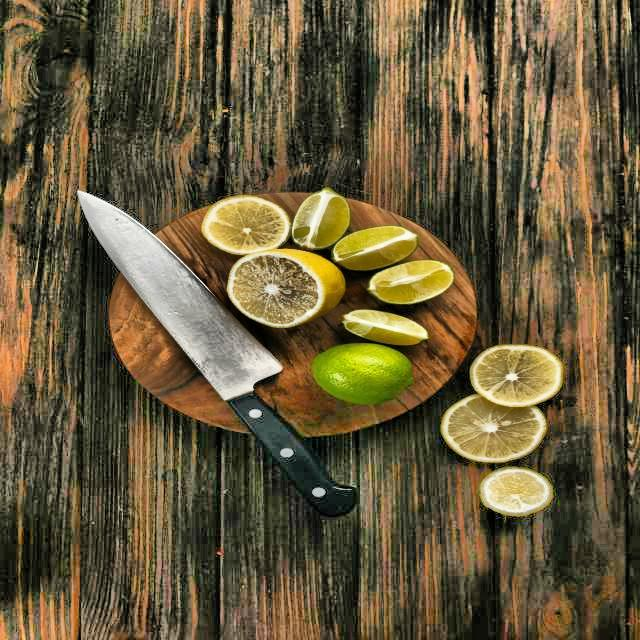knife: (69, 190, 351, 520)
